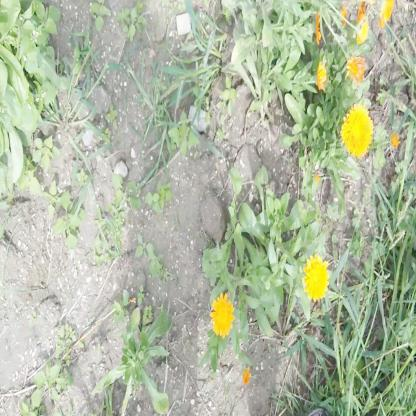marigold: (343, 103, 370, 155), (302, 254, 330, 300), (210, 293, 234, 336), (348, 56, 364, 82)
